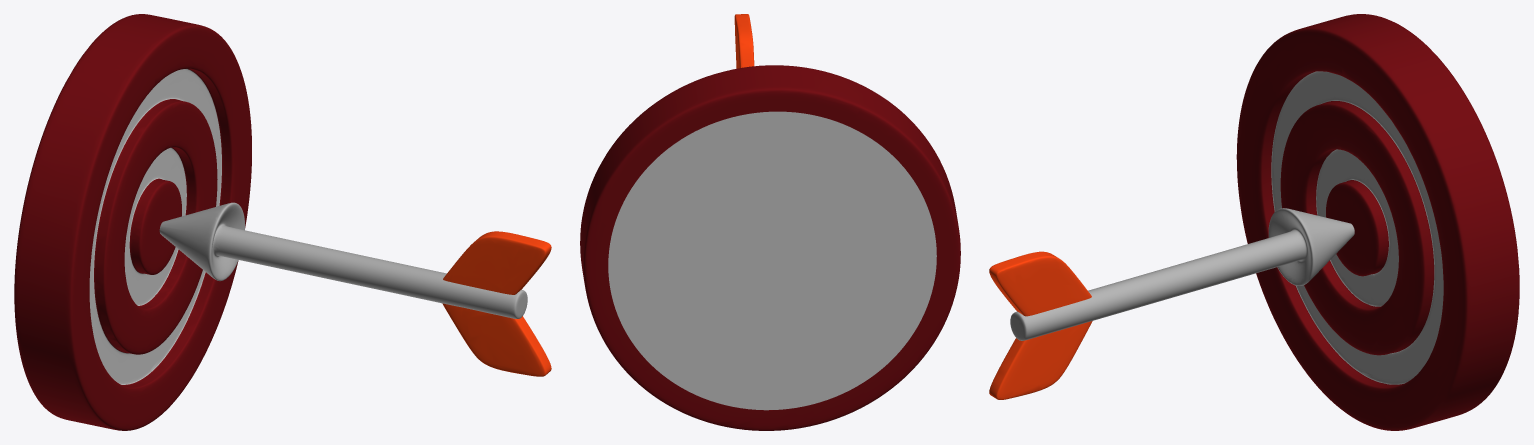
The model's file is target.glb.
The picture shows the model from 3 angles, left to right: view 1: azimuth 30°, elevation 25°; view 2: azimuth 150°, elevation 25°; view 3: azimuth 270°, elevation 25°; orthographic projection. The views are drawn at different scales.
Parts seen in each view (by area): view 1: Circle; view 2: Circle; view 3: Circle.
Part boxes in pixels (x1,y1,x2,y2): Circle: (14,14,551,430); Circle: (580,14,960,430); Circle: (989,14,1519,430).
Size of the model in its own units: 1.82 by 1.67 by 2.13.
